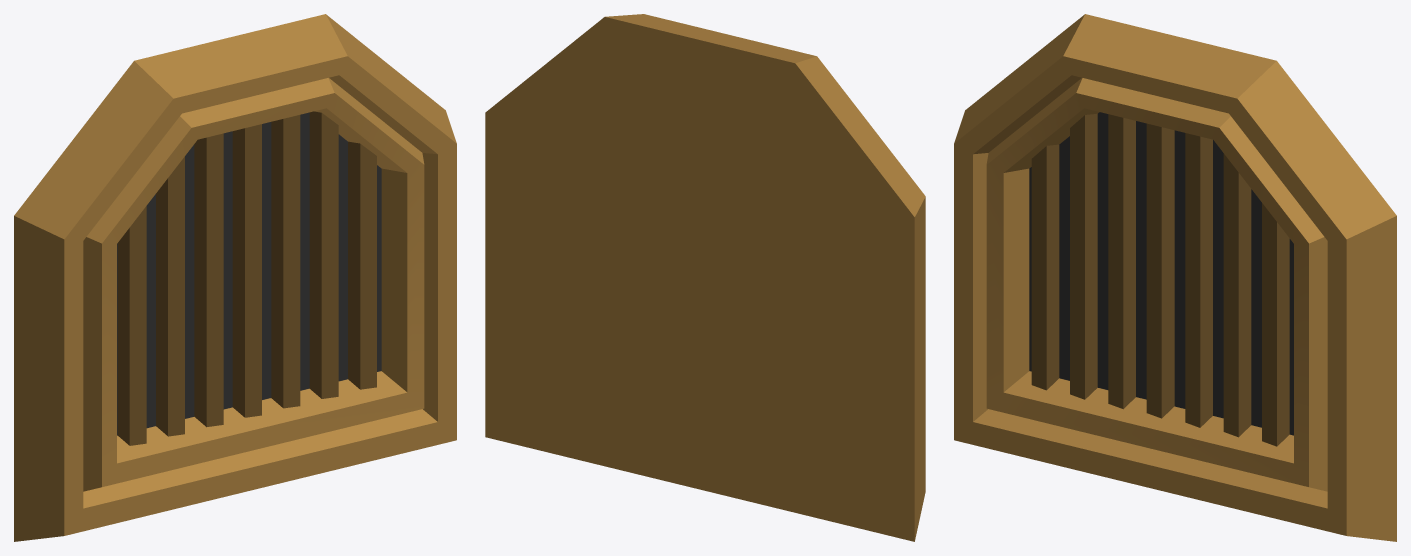
Rendered from details_vent_2.glb.
3 renders of one model, left to right at view 1: azimuth 30°, elevation 25°; view 2: azimuth 150°, elevation 25°; view 3: azimuth 330°, elevation 25°, orthographic.
Parts seen in each view (by area): view 1: Details_Vent_2; view 2: Details_Vent_2; view 3: Details_Vent_2.
Part boxes in pixels (x1=…): Details_Vent_2: x1=14, y1=14, x2=456, y2=541; Details_Vent_2: x1=485, y1=14, x2=925, y2=541; Details_Vent_2: x1=954, y1=14, x2=1396, y2=541.
Bounding box in the file's own units: 0.3099 × 0.3099 × 0.0413.
